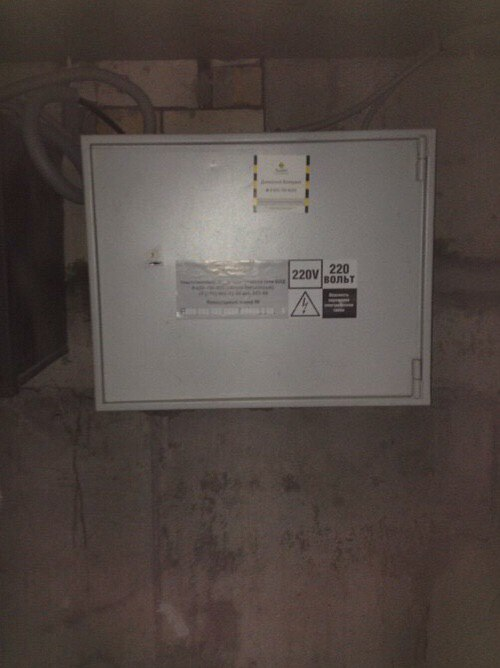shta-9m: (73, 119, 441, 422)
